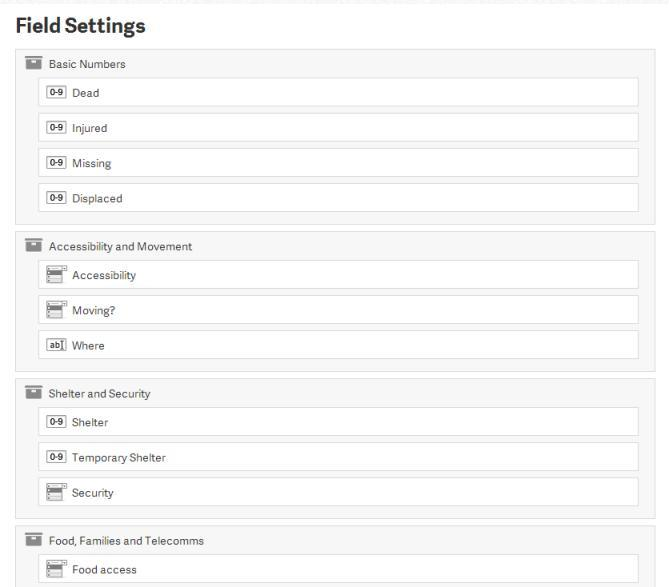input: (39, 477, 640, 507), (39, 330, 639, 360), (39, 113, 640, 142), (39, 295, 639, 324), (39, 408, 639, 437), (40, 555, 639, 584), (39, 261, 640, 289), (39, 443, 639, 471), (40, 184, 639, 212), (41, 150, 638, 178), (41, 79, 640, 106)
label: (14, 14, 151, 42), (48, 533, 209, 552), (49, 239, 197, 257), (46, 386, 156, 403), (45, 57, 130, 73)
